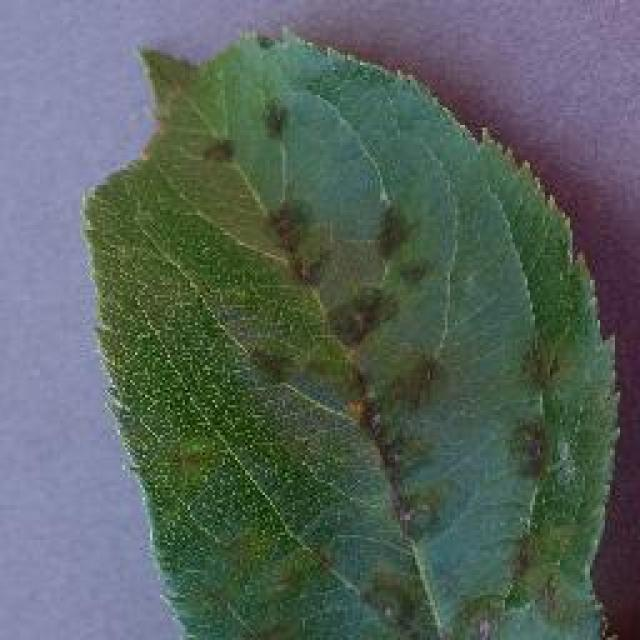apple scab disease: (80, 25, 625, 637)
